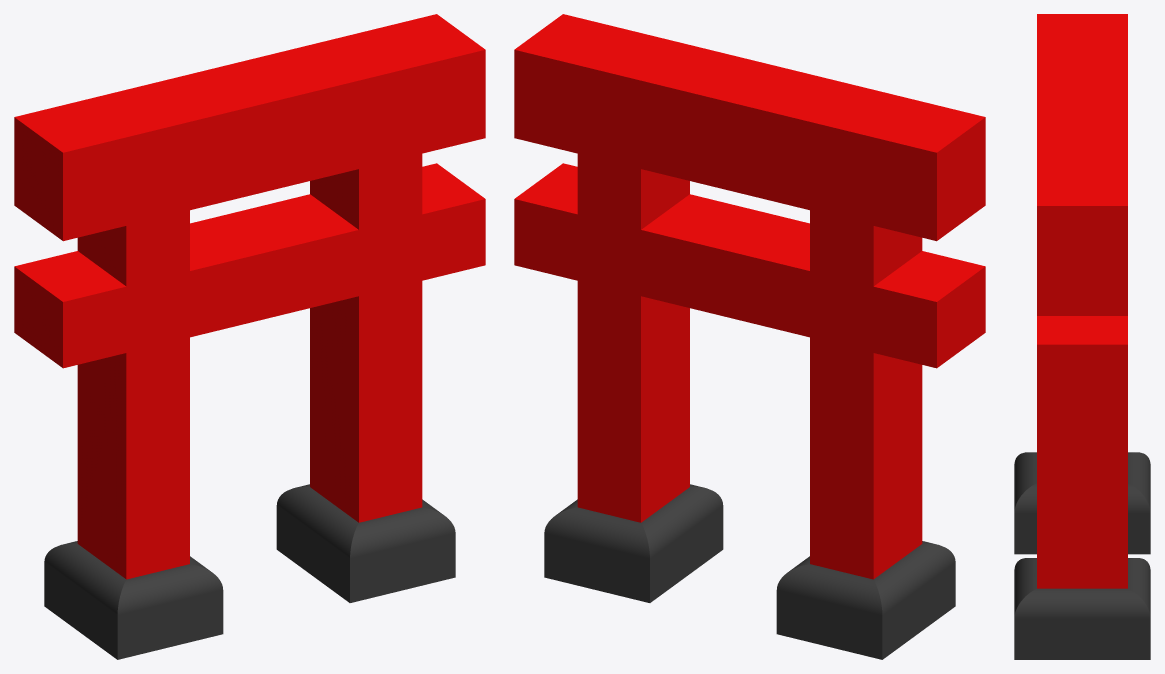
Rendered from torii.glb.
3 renders of one model, left to right at view 1: azimuth 30°, elevation 25°; view 2: azimuth 150°, elevation 25°; view 3: azimuth 270°, elevation 25°, orthographic. The views are drawn at different scales.
Parts seen in each view (by area): view 1: torii; view 2: torii; view 3: torii.
Boxes of the visible parts, x1,y1,x2,y2 form: torii: (14,14,485,659); torii: (514,14,985,659); torii: (1014,14,1150,659).
Size of the model in its own units: 0.01 by 0.0115 by 0.003.
